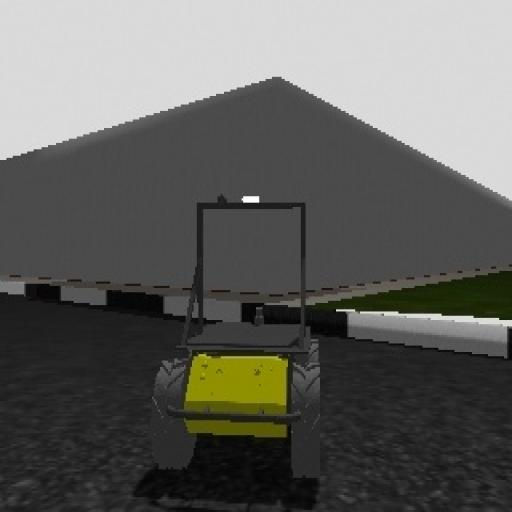huskya200: (135, 170, 343, 494)
